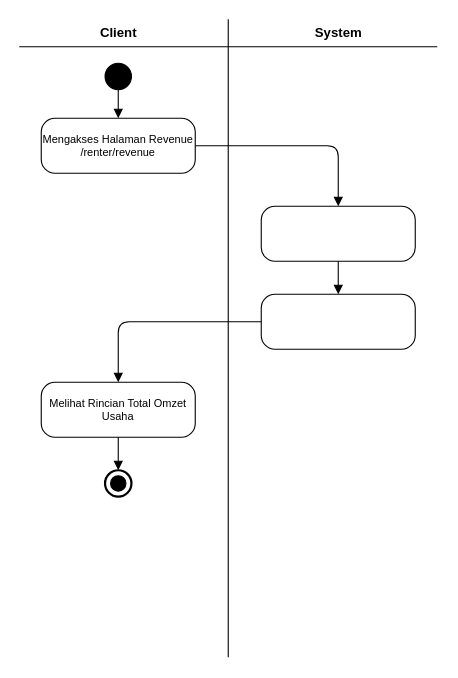
Some shapes in this 458 by 678 pixel diagram are drawn without their labels. The shapes that lost their labels are listed below. From the top down, each one's box as (x1, y1, x2, y2) in pixels, then its label:
(260, 205, 415, 261): Mengambil Transaksi PAID Lapangan Renter
(260, 293, 415, 349): Merender Grafik Tren Keuangan & Pendapatan
